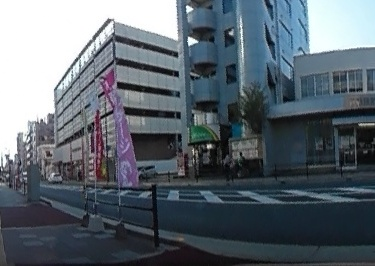person: (223, 151, 232, 179), (236, 149, 245, 177)
